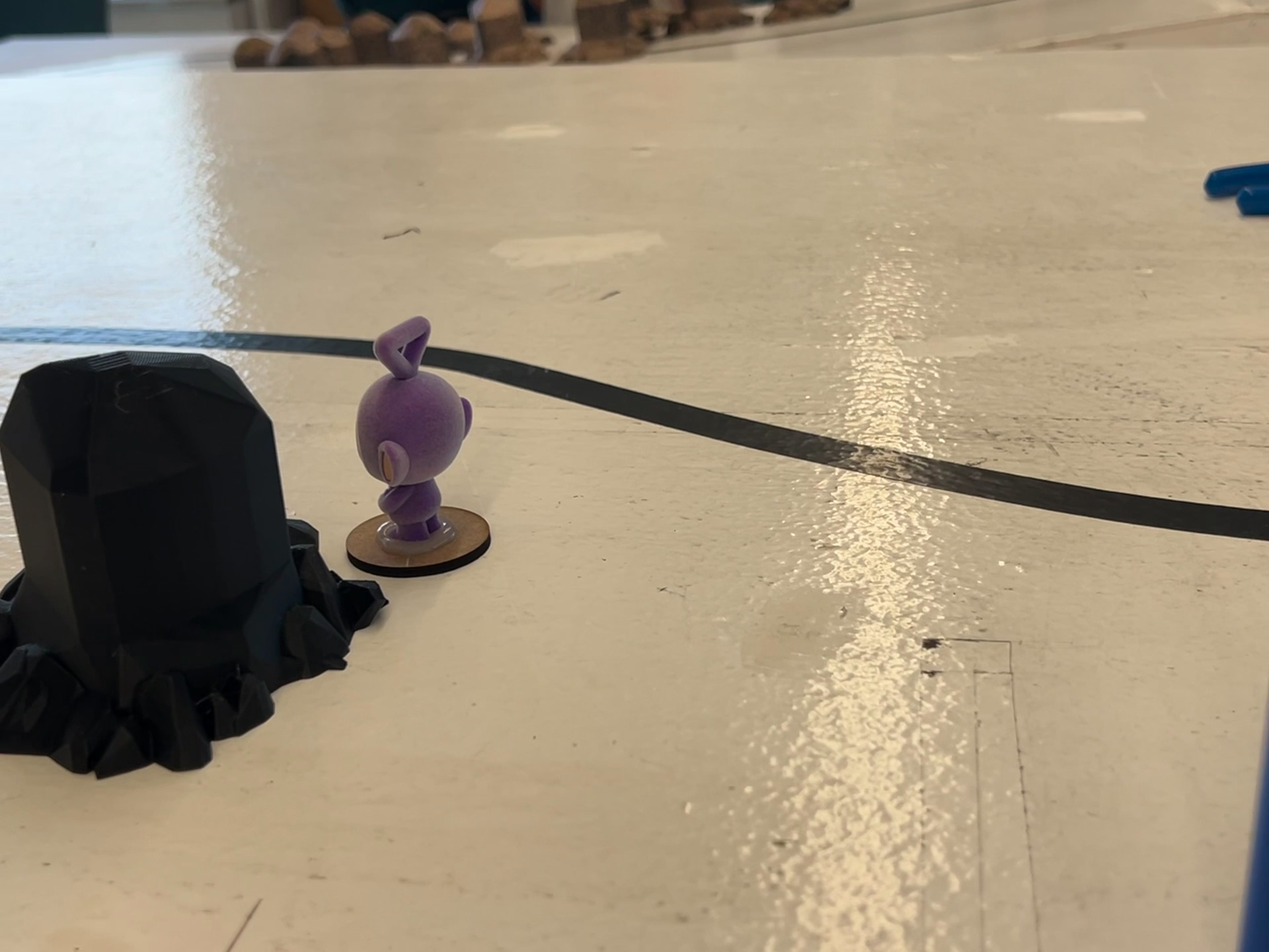teletubby: (355, 317, 472, 542)
